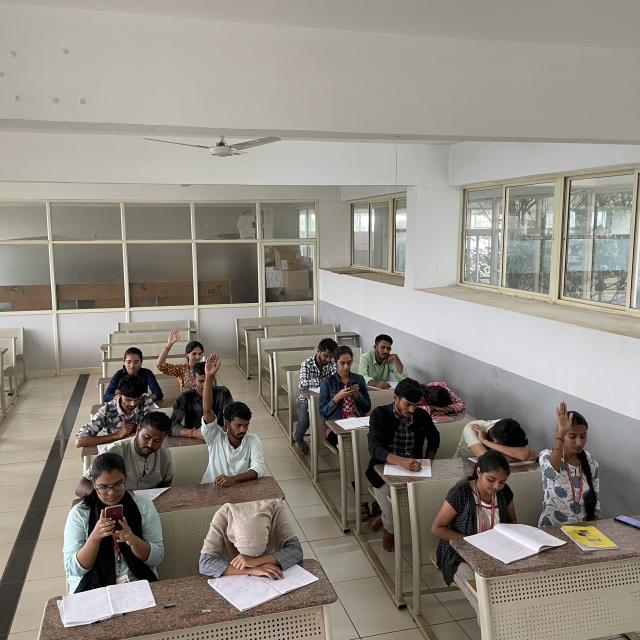Hand Rising: (198, 347, 263, 471), (542, 400, 600, 512), (150, 326, 215, 379)
Reading: (455, 455, 552, 551), (81, 375, 157, 454), (118, 412, 176, 499), (298, 336, 344, 394)
Sleeping: (196, 495, 303, 572), (456, 415, 541, 460), (420, 378, 469, 414)
Using Phone: (66, 454, 158, 564), (326, 350, 370, 417)
Writing: (369, 377, 436, 474), (361, 332, 405, 389)
